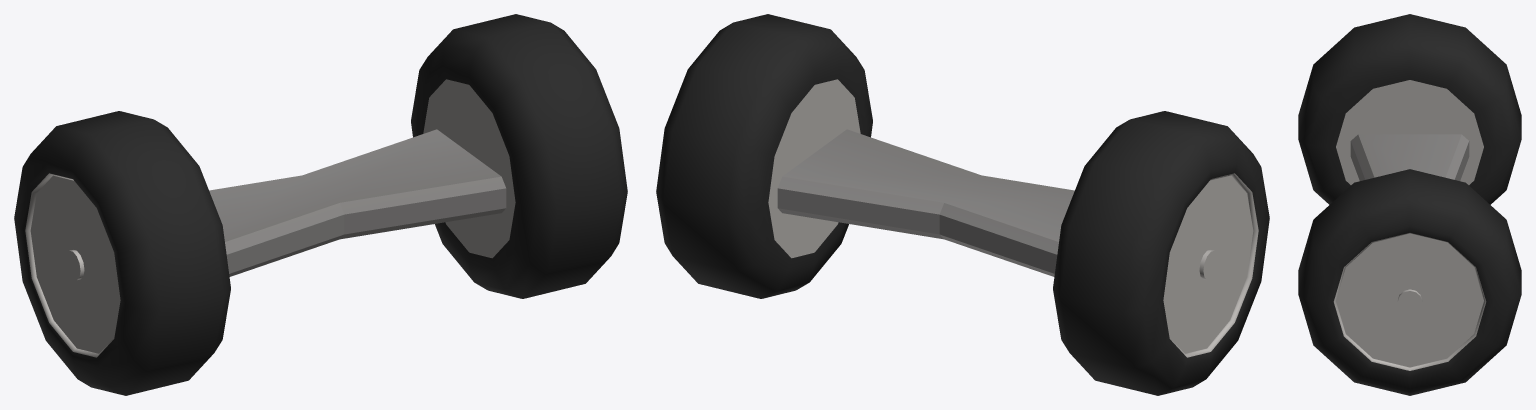
File: SM_Hoverboard.fbx
3 views of the same model, side by side, from view 1: azimuth 30°, elevation 25°; view 2: azimuth 150°, elevation 25°; view 3: azimuth 270°, elevation 25° (orthographic). The views are drawn at different scales.
Parts seen in each view (by area): view 1: SM_Hoverboard_Wheel.001, SM_Hoverboard_Wheel, SM_Hoverboard; view 2: SM_Hoverboard_Wheel.001, SM_Hoverboard_Wheel, SM_Hoverboard; view 3: SM_Hoverboard_Wheel, SM_Hoverboard_Wheel.001, SM_Hoverboard.
Boxes of the visible parts, bbox=[...] form: SM_Hoverboard_Wheel.001: bbox=[14, 111, 230, 395]; SM_Hoverboard_Wheel: bbox=[411, 14, 627, 298]; SM_Hoverboard: bbox=[209, 129, 506, 276]; SM_Hoverboard_Wheel.001: bbox=[1053, 111, 1269, 395]; SM_Hoverboard_Wheel: bbox=[656, 14, 872, 298]; SM_Hoverboard: bbox=[777, 129, 1074, 276]; SM_Hoverboard_Wheel: bbox=[1298, 169, 1521, 395]; SM_Hoverboard_Wheel.001: bbox=[1298, 14, 1521, 204]; SM_Hoverboard: bbox=[1350, 134, 1469, 180].
Bounding box in the file's own units: 312 × 152 × 152.
